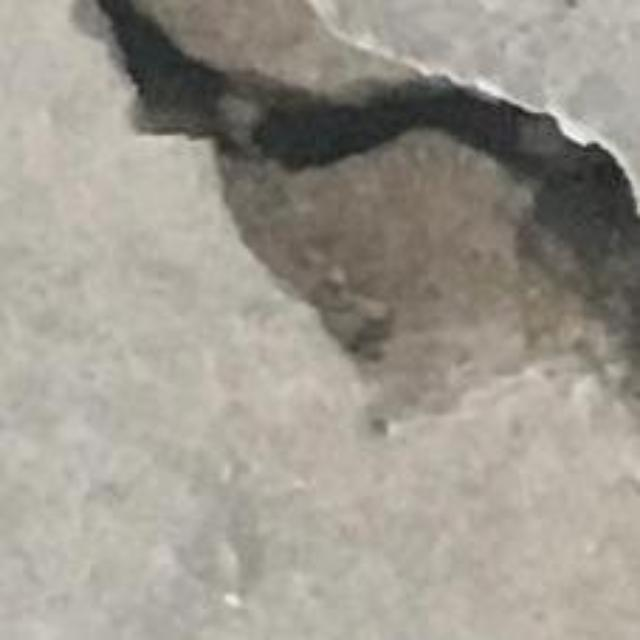crack: (96, 0, 639, 400)
